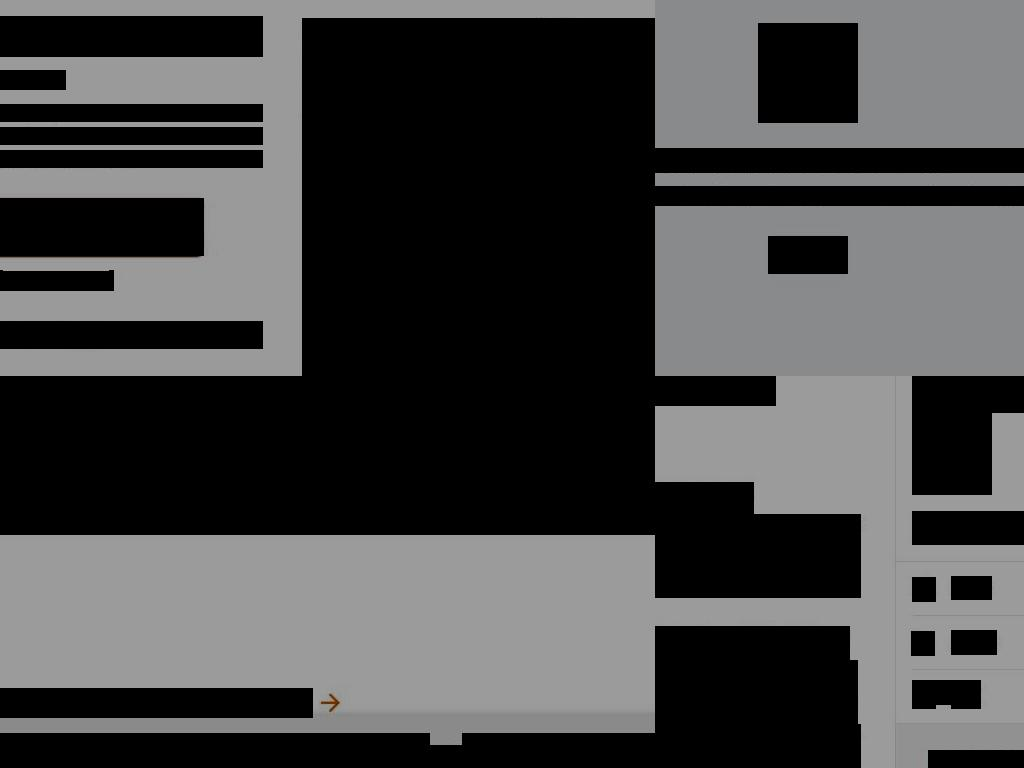button: (0, 376, 655, 463), (0, 733, 430, 768), (0, 198, 204, 256), (462, 733, 655, 753), (768, 236, 848, 274), (912, 680, 981, 705)
field: (912, 511, 1024, 545)
heading: (0, 688, 313, 718), (951, 630, 997, 655), (951, 576, 992, 600), (951, 684, 981, 709)
iframe: (0, 462, 655, 535), (928, 750, 1024, 768)
image: (302, 18, 655, 376), (0, 376, 655, 463), (0, 733, 430, 768), (758, 23, 858, 123), (912, 376, 992, 495), (912, 577, 936, 602), (912, 684, 936, 709)
link: (655, 626, 850, 680), (0, 208, 171, 231), (2, 271, 110, 291)
text: (655, 514, 861, 598), (655, 660, 858, 744), (0, 413, 655, 439), (0, 745, 655, 768), (0, 16, 263, 57), (655, 148, 1024, 173), (655, 724, 861, 768), (655, 186, 1024, 206), (0, 321, 263, 349), (0, 104, 263, 122), (0, 127, 263, 145), (0, 150, 263, 168), (768, 236, 848, 274), (0, 70, 66, 90), (14, 227, 98, 242), (655, 628, 718, 647), (911, 631, 935, 656), (717, 626, 739, 646), (302, 18, 316, 38), (315, 18, 325, 38), (109, 270, 114, 291), (0, 270, 3, 291)
